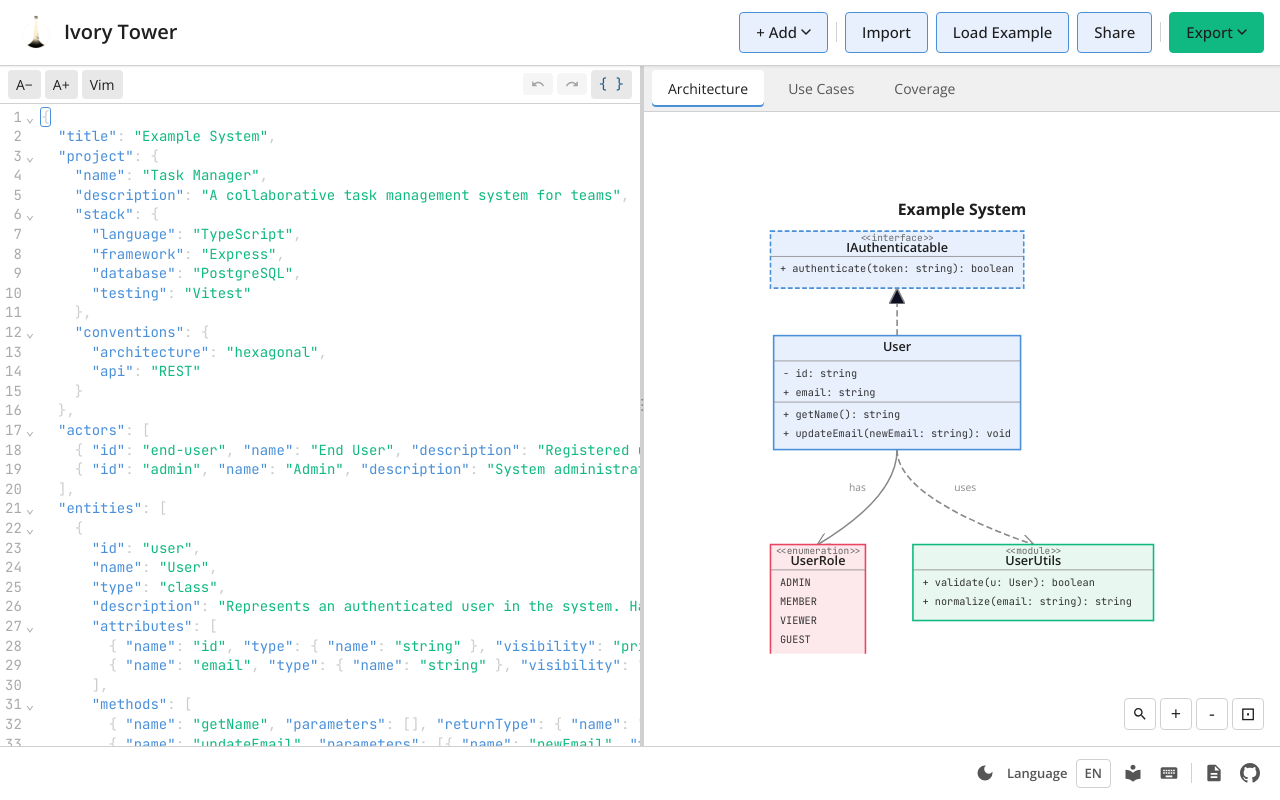
Scenario: App › Coverage tab › shows coverage panel when Coverage tab is clicked
Click the tab "Coverage": coordinates (925, 88) x1=878 y1=70 x2=971 y2=106
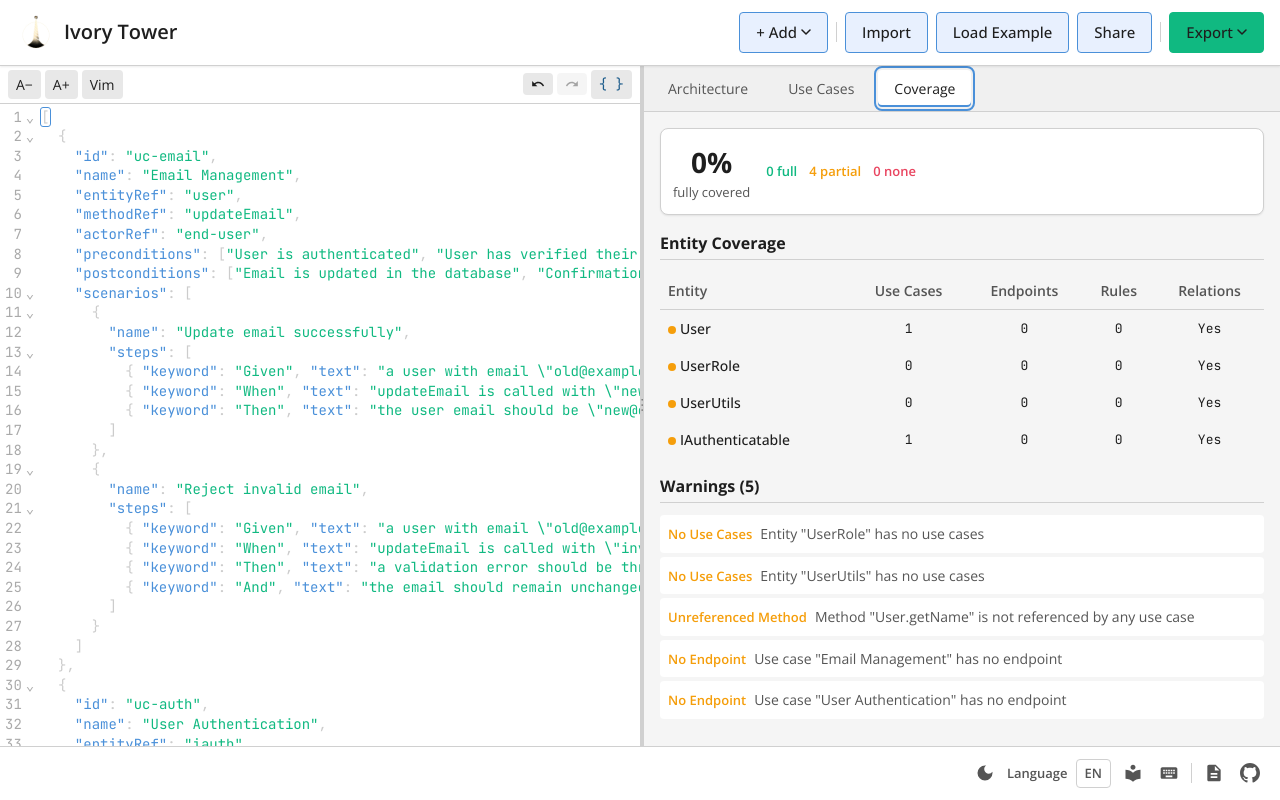
Check: the text "fully covered" is shown, box x1=673 y1=182 x2=750 y2=202
